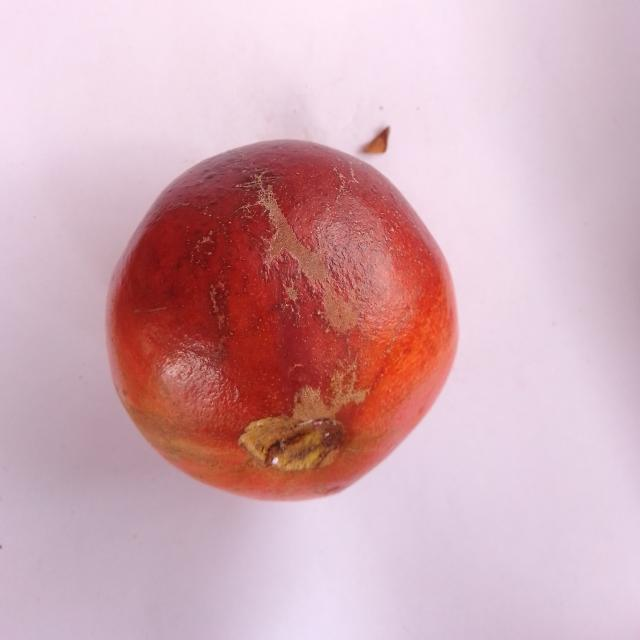overripe: (104, 132, 458, 508)
